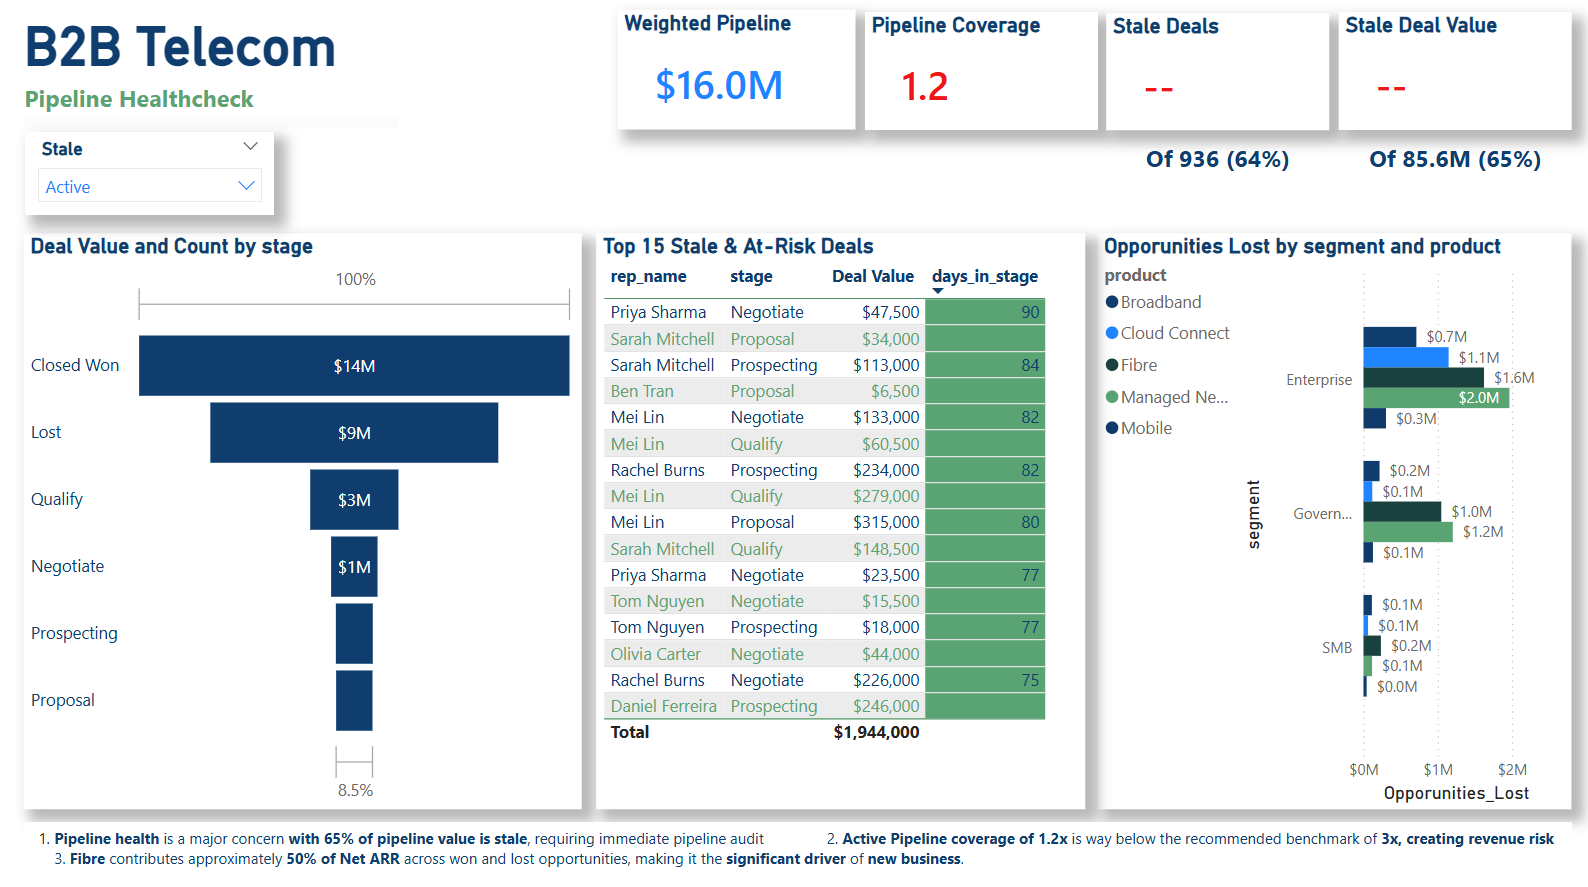

Layout of this report page (visuals, bound fields, positions):
{"tool":"powerbi","page":{"name":"Pipeline_health","canvas":[1280,720],"ordinal":1},"visuals":[{"type":"cardVisual","title":"Weighted Pipeline","fields":{"Data":["Measures_Table.Weighted Pipeline"]},"box":[502.3,10.5,189.5,95.3],"z":0},{"type":"cardVisual","title":"Pipeline Coverage","fields":{"Data":["Measures_Table.Pipeline Coverage"]},"box":[699.6,12.4,186,94.2],"z":1000},{"type":"cardVisual","title":"Stale Deals","fields":{"Data":["Measures_Table.Stale_Deals"]},"box":[893.4,13.2,177.9,94.2],"z":2000},{"type":"cardVisual","title":"Stale Deal Value","fields":{"Data":["Measures_Table.Stale_Value"]},"box":[1079.1,11.6,186,95.3],"z":3000},{"type":"funnel","title":"Deal Value and Count by stage","fields":{"Category":["deals.stage"],"Y":["Measures_Table.Deal Value"]},"box":[27,189,446,461],"z":4000},{"type":"clusteredBarChart","title":"Opporunities Lost by segment and product","fields":{"Category":["deals.segment"],"Series":["deals.product"],"Y":["Measures_Table.Opporunities_Lost"]},"box":[886,189,379,461],"z":5000},{"type":"tableEx","title":"Top 15 Stale & At-Risk Deals","fields":{"Values":["reps.rep_name","deals.stage","Measures_Table.Deal Value","deals.days_in_stage"]},"box":[485,189,391,461],"z":6000},{"type":"slicer","fields":{"Values":["deals.Stale"]},"box":[28.3,108.3,198.2,66.5],"z":7000},{"type":"shape","title":"B2B Telecom","box":[27.4,13.7,299.1,91.9],"z":8000},{"type":"shape","box":[893,108,178,41],"z":9000},{"type":"shape","box":[1079,108,186,41],"z":10000},{"type":"textbox","box":[28,660,1237,53],"z":10001}]}

Visuals, with their boxes in screenshot pixels (x1, y1, x2, y2), scaled from the page's 1280x720 canvas onto the 1588x887 screenshot:
"Weighted Pipeline" cardVisual: (623, 13, 858, 130)
"Pipeline Coverage" cardVisual: (868, 15, 1099, 131)
"Stale Deals" cardVisual: (1108, 16, 1329, 132)
"Stale Deal Value" cardVisual: (1339, 14, 1570, 132)
"Deal Value and Count by stage" funnel: (33, 233, 587, 801)
"Opporunities Lost by segment and product" clusteredBarChart: (1099, 233, 1569, 801)
"Top 15 Stale & At-Risk Deals" tableEx: (602, 233, 1087, 801)
slicer - deals.Stale: (35, 133, 281, 215)
"B2B Telecom" shape: (34, 17, 405, 130)
shape: (1108, 133, 1329, 184)
shape: (1339, 133, 1569, 184)
textbox: (35, 813, 1569, 878)
